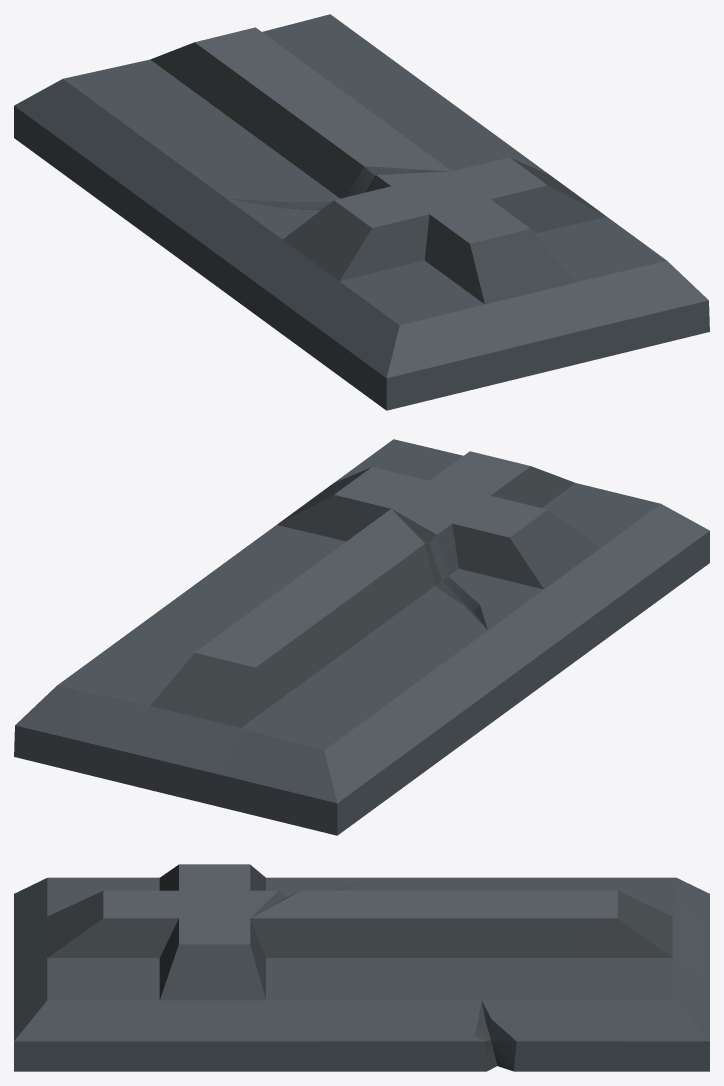
File: GraveV2LidV3.obj
3 renders of one model, top to bottom at view 1: azimuth 30°, elevation 25°; view 2: azimuth 150°, elevation 25°; view 3: azimuth 270°, elevation 25°, orthographic. The views are drawn at different scales.
Visible parts, largest first — view 1: GraveLidV3; view 2: GraveLidV3; view 3: GraveLidV3.
Boxes of the visible parts, left/top/right/bottom form: GraveLidV3: left=14, top=14, right=709, bottom=410; GraveLidV3: left=14, top=439, right=709, bottom=835; GraveLidV3: left=14, top=864, right=709, bottom=1071.
Bounding box in the file's own units: 4.52 × 1.34 × 9.03.
